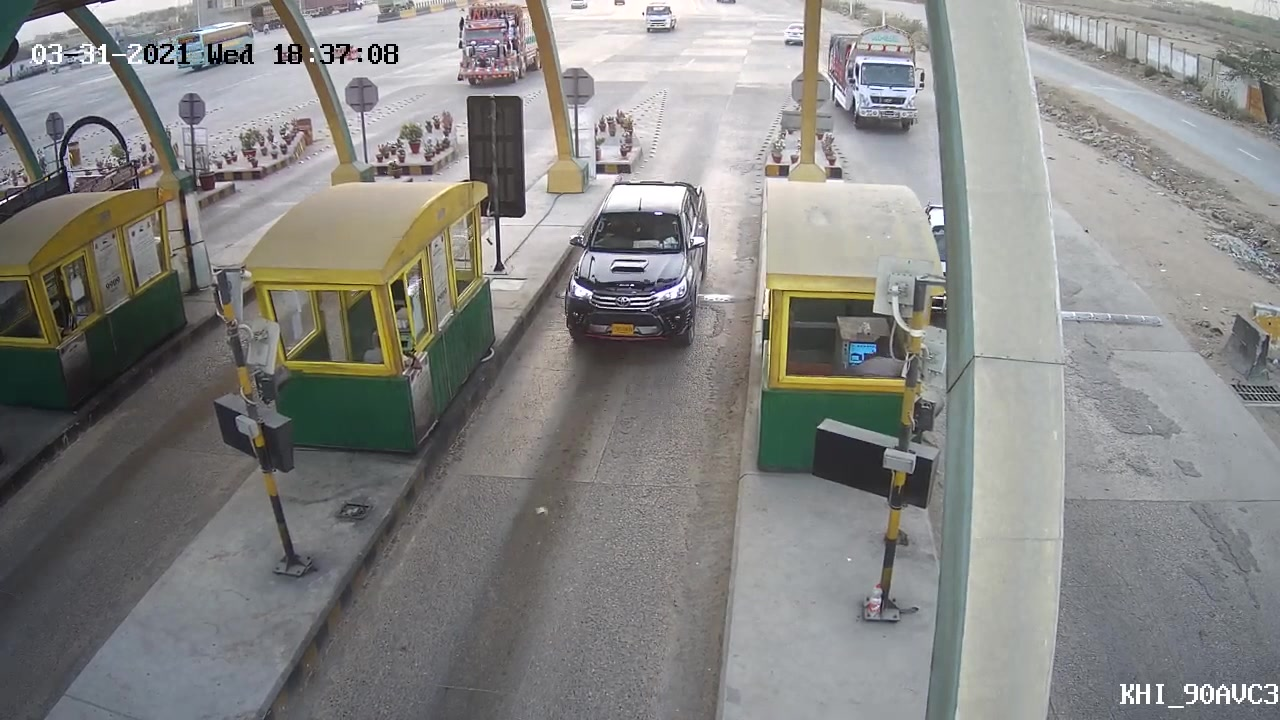F1: (552, 165, 713, 354)
